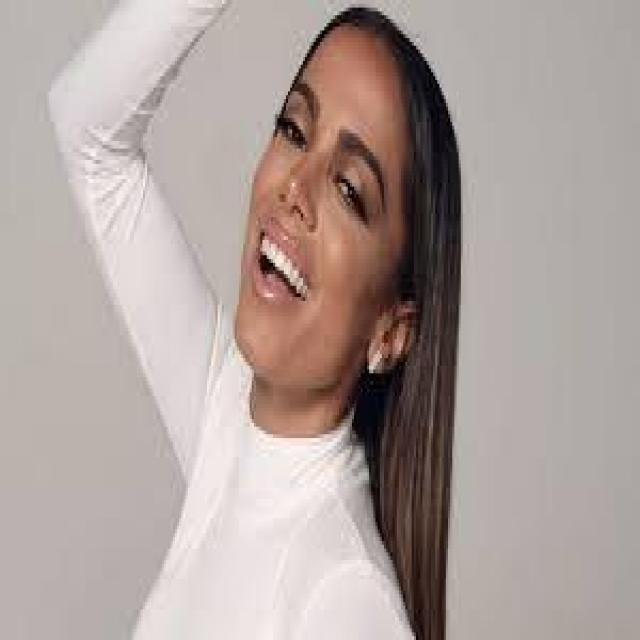person: (47, 4, 512, 636)
